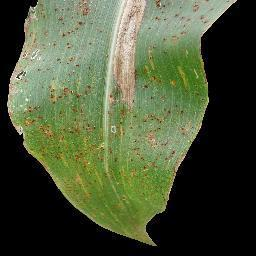Corn_Common_Rust: (3, 0, 229, 247), (24, 125, 26, 128)
